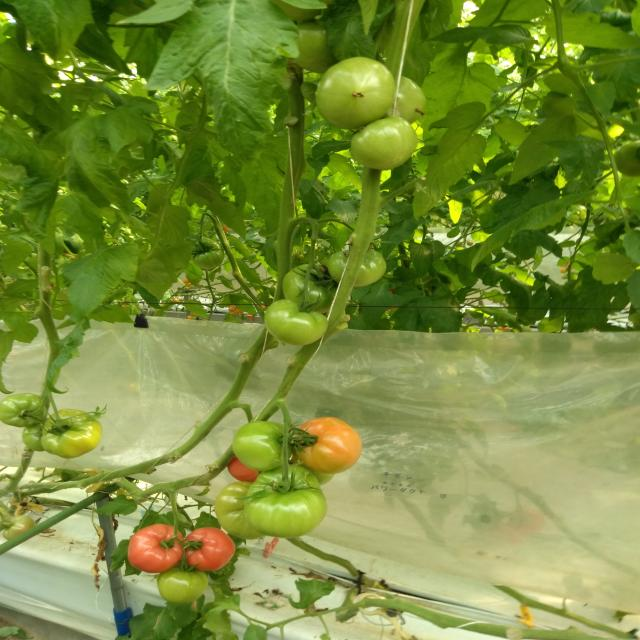sari: (131, 518, 246, 568)
yesil: (261, 44, 449, 190), (258, 271, 369, 351)
